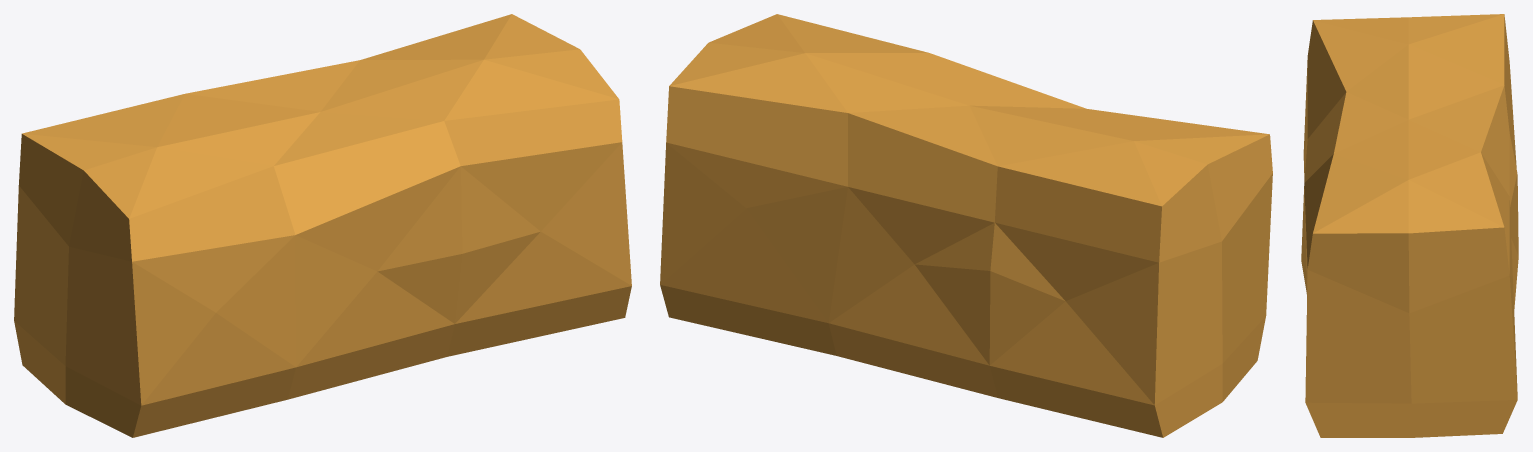
Rendered from fence-shrub.fbx.
The picture shows the model from 3 angles, left to right: view 1: azimuth 30°, elevation 25°; view 2: azimuth 150°, elevation 25°; view 3: azimuth 270°, elevation 25°; orthographic projection. The views are drawn at different scales.
Parts seen in each view (by area): view 1: fence-shrub; view 2: fence-shrub; view 3: fence-shrub.
Part boxes in pixels (x1,y1,x2,y2): fence-shrub: (14, 14, 631, 437); fence-shrub: (660, 14, 1272, 437); fence-shrub: (1301, 14, 1518, 437).
Bounding box in the file's own units: 2.09 × 0.9526 × 0.8613.
